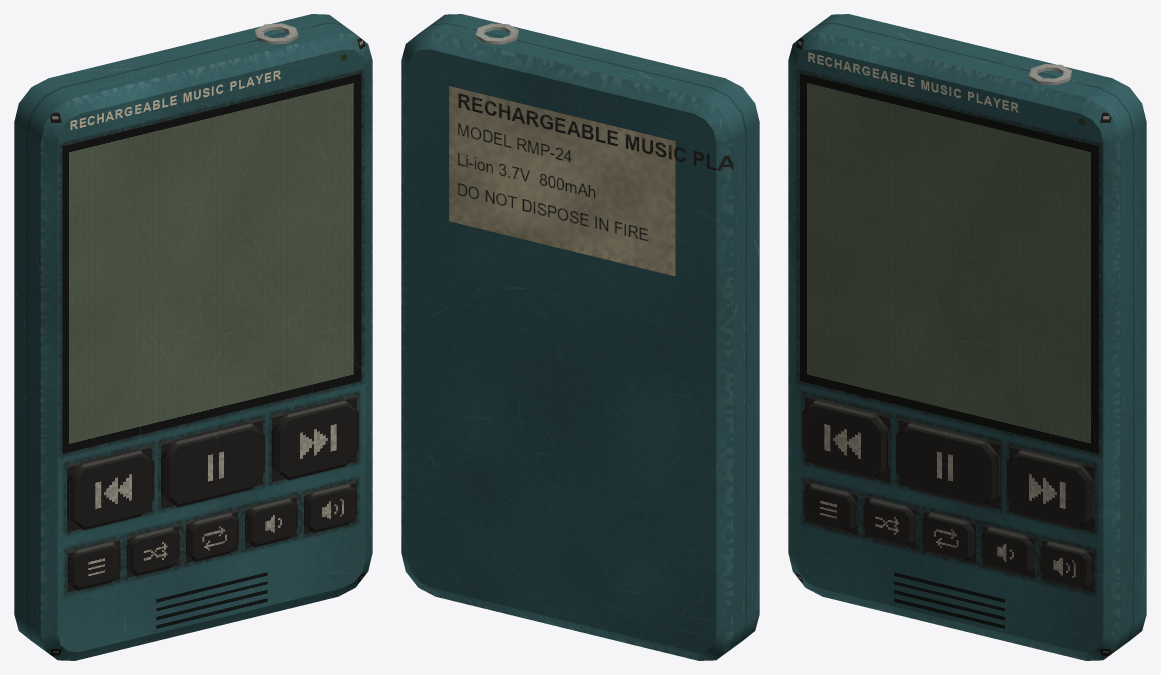
File: rechargeable-player.obj
The picture shows the model from 3 angles, left to right: view 1: azimuth 30°, elevation 25°; view 2: azimuth 150°, elevation 25°; view 3: azimuth 330°, elevation 25°; orthographic projection.
Bounding box in the file's own units: 0.058 × 0.0946 × 0.0123.
1 material, 1 textured.
